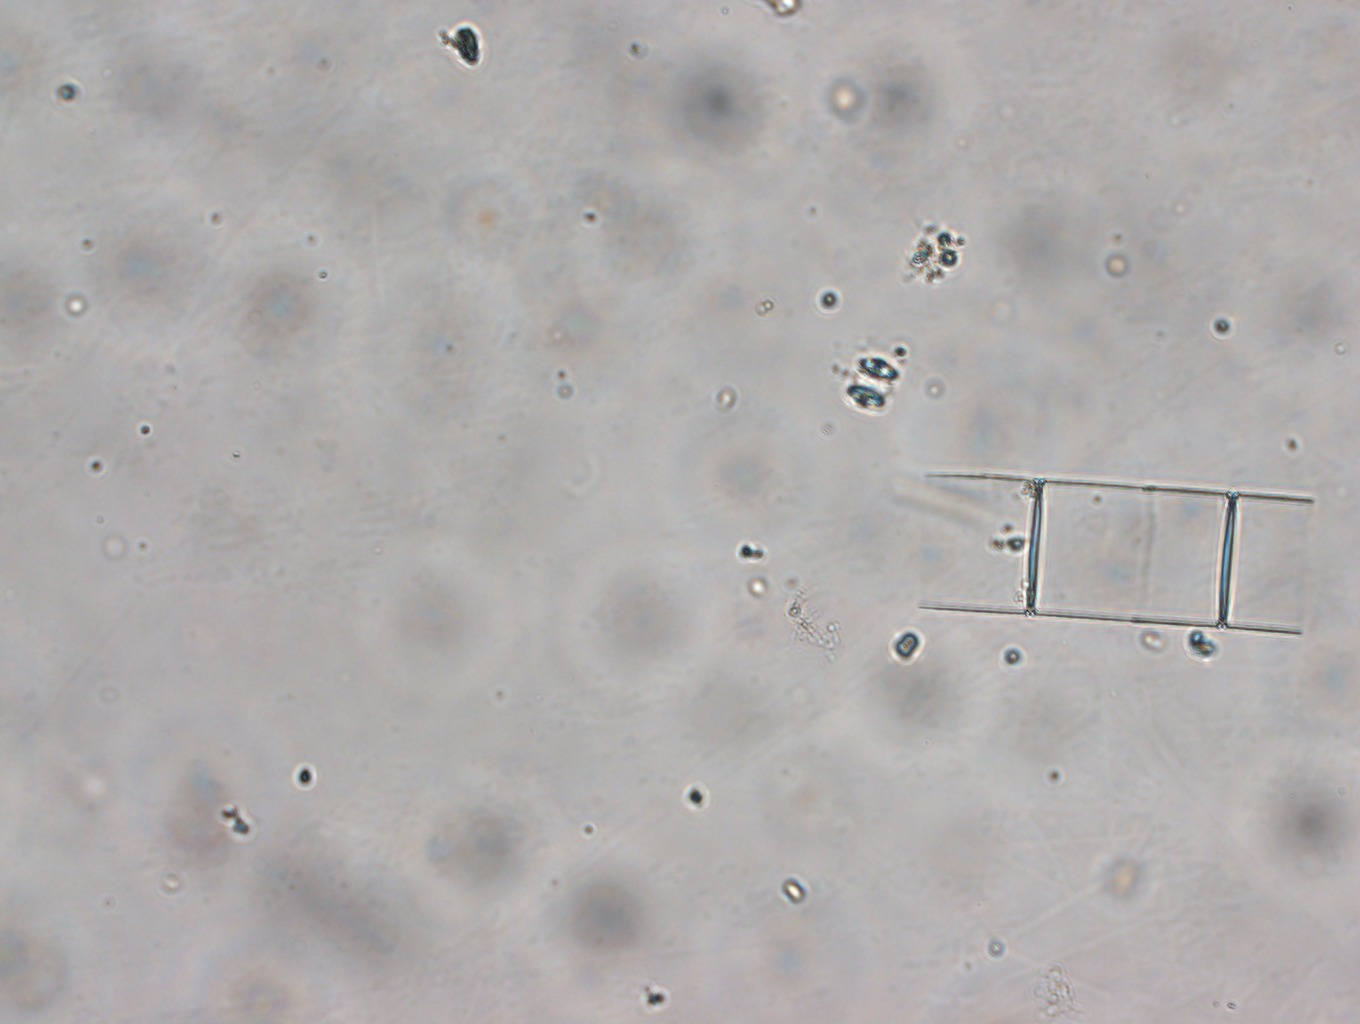guinardia flaccida: (918, 470, 1314, 645)
